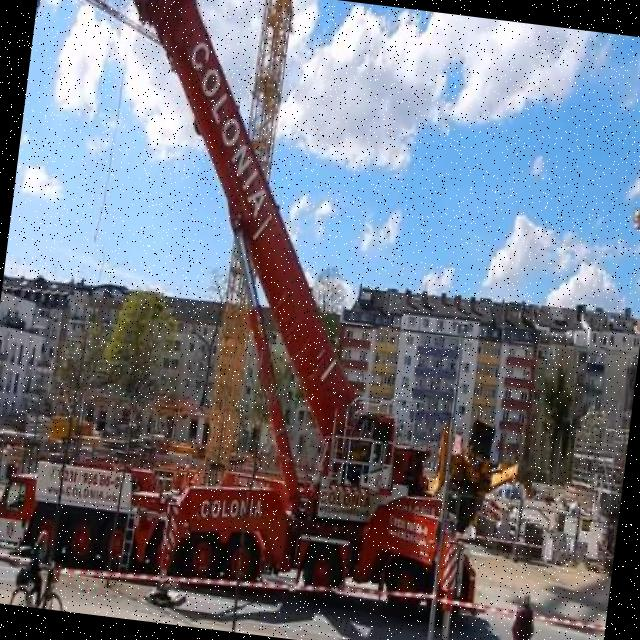Mobile Crane: (59, 0, 553, 632)
